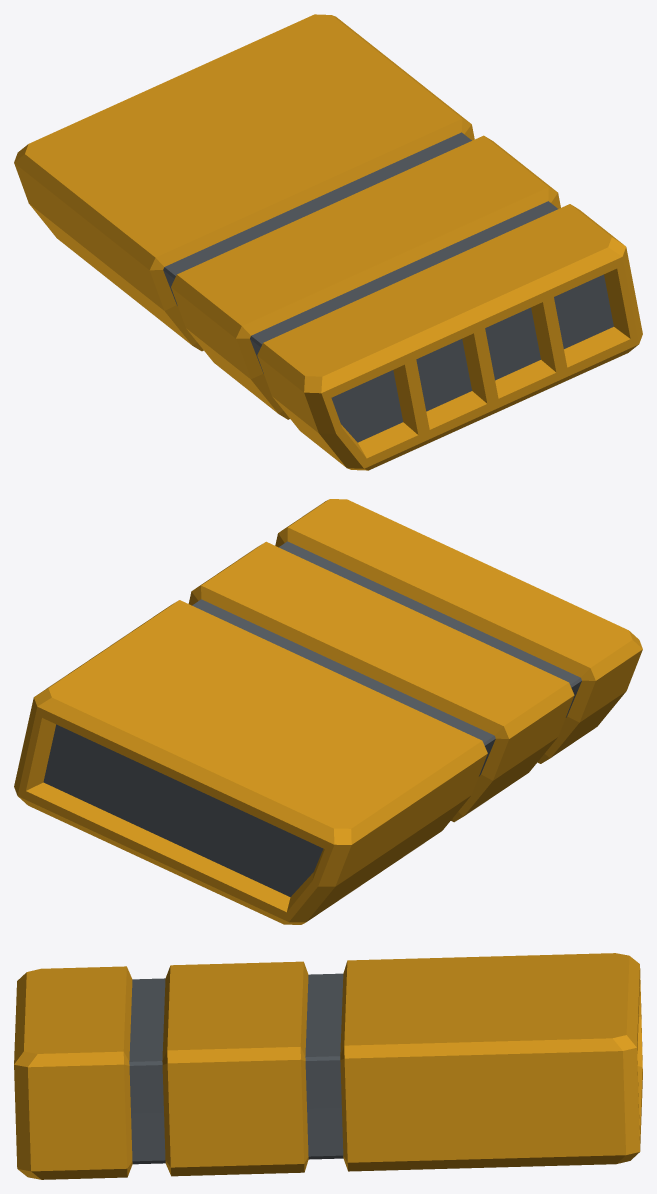
The model's file is Dropship_01_Artillery_Left_Yellow.fbx.
3 renders of one model, top to bottom at view 1: azimuth 30°, elevation 25°; view 2: azimuth 150°, elevation 25°; view 3: azimuth 270°, elevation 25°, orthographic. The views are drawn at different scales.
Parts seen in each view (by area): view 1: Dropship_01_Artillery_Left_Yellow; view 2: Dropship_01_Artillery_Left_Yellow; view 3: Dropship_01_Artillery_Left_Yellow.
Boxes of the visible parts, left/top/right/bottom form: Dropship_01_Artillery_Left_Yellow: left=14, top=14, right=642, bottom=470; Dropship_01_Artillery_Left_Yellow: left=14, top=499, right=642, bottom=924; Dropship_01_Artillery_Left_Yellow: left=14, top=953, right=642, bottom=1179.
Size of the model in its own units: 362 by 192 by 568.
1 material, 1 textured.
